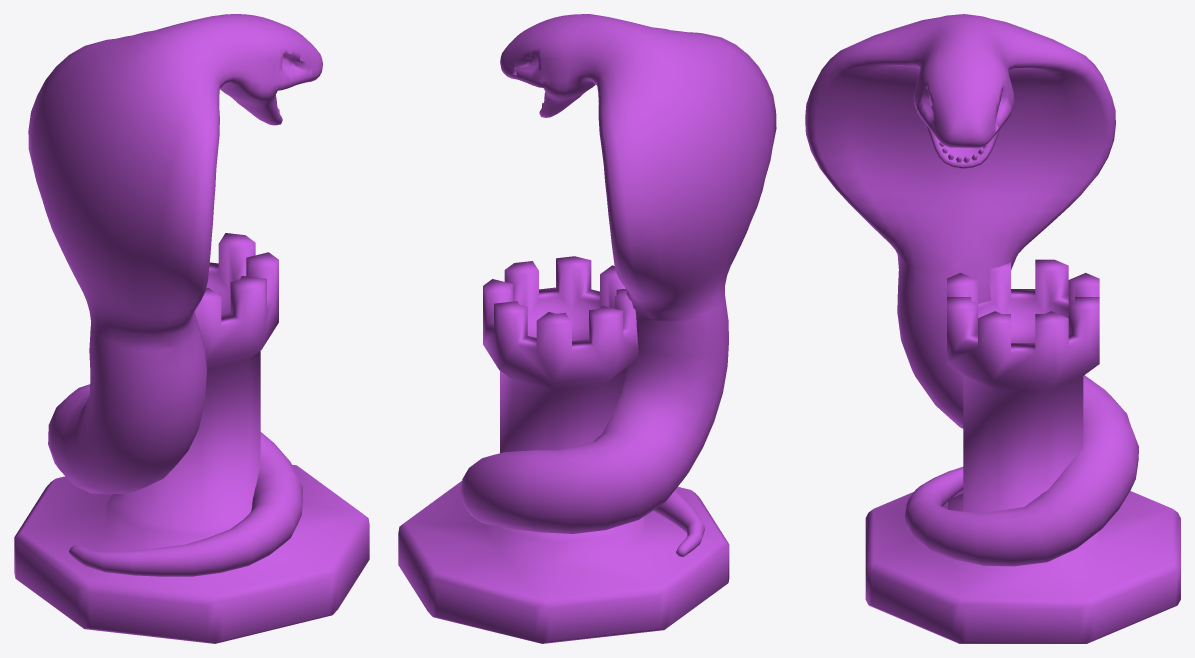
File: Rook_Arbok.obj
The picture shows the model from 3 angles, left to right: view 1: azimuth 30°, elevation 25°; view 2: azimuth 150°, elevation 25°; view 3: azimuth 270°, elevation 25°; orthographic projection. The views are drawn at different scales.
Visible parts, largest first — view 1: Rook_Arbok; view 2: Rook_Arbok; view 3: Rook_Arbok.
Boxes of the visible parts, x1,y1,x2,y2 form: Rook_Arbok: (14, 14, 369, 643); Rook_Arbok: (398, 14, 776, 643); Rook_Arbok: (805, 14, 1180, 643).
Bounding box in the file's own units: 39.85 × 73.47 × 46.24.
